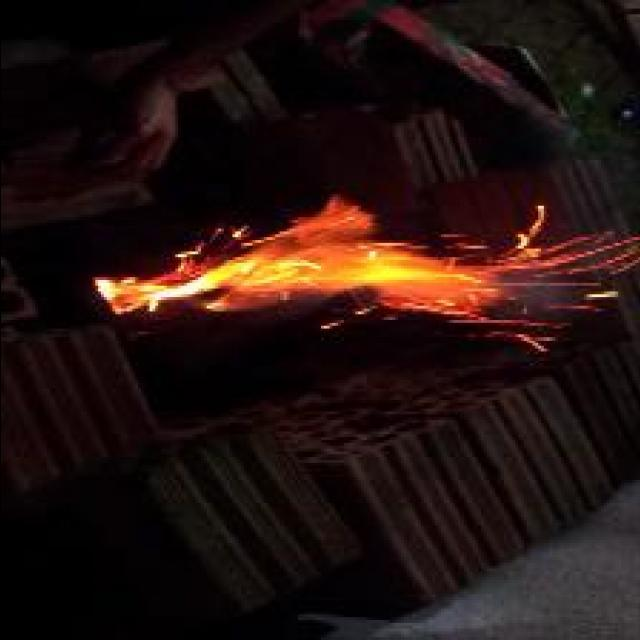Fire: (91, 198, 640, 352)
